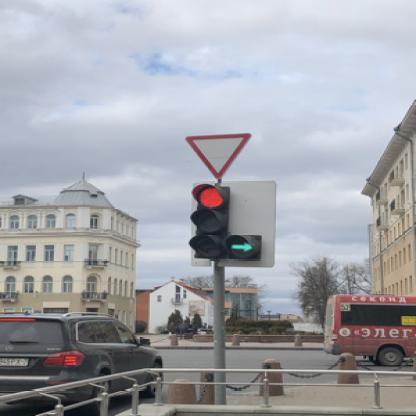trafficlight: (186, 183, 261, 259)
